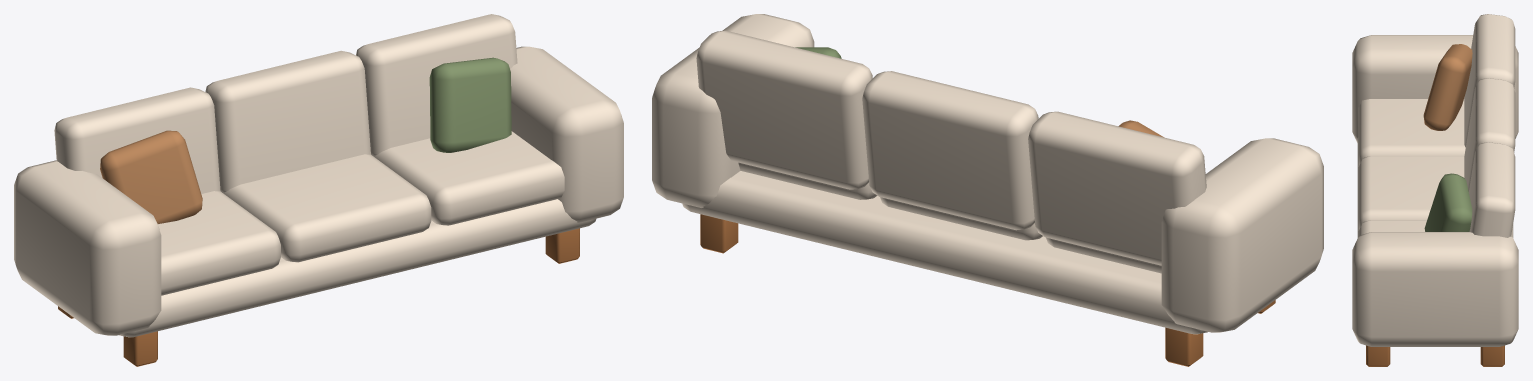
The model's file is sofa-low-poly-v2.glb.
3 renders of one model, left to right at view 1: azimuth 30°, elevation 25°; view 2: azimuth 150°, elevation 25°; view 3: azimuth 270°, elevation 25°, orthographic. The views are drawn at different scales.
Parts seen in each view (by area): view 1: sofa_arm_left, sofa_back_1, sofa_base, sofa_seat_1, sofa_arm_right, sofa_back_2, sofa_seat_2, sofa_back_0, sofa_seat_0, sofa_pillow_right, sofa_pillow_left, sofa_leg_0 (+1 smaller); view 2: sofa_base, sofa_arm_left, sofa_back_1, sofa_back_2, sofa_back_0, sofa_arm_right, sofa_seat_1, sofa_leg_2, sofa_seat_2, sofa_leg_3, sofa_seat_0; view 3: sofa_arm_right, sofa_arm_left, sofa_seat_1, sofa_seat_0, sofa_back_2, sofa_back_0, sofa_back_1, sofa_pillow_left, sofa_pillow_right, sofa_seat_2, sofa_leg_1, sofa_leg_3 (+1 smaller).
Boxes of the visible parts, <box> form: sofa_arm_left: <box>14,160,161,335</box>; sofa_back_1: <box>205,50,370,192</box>; sofa_base: <box>119,199,596,337</box>; sofa_seat_1: <box>222,154,431,262</box>; sofa_arm_right: <box>510,46,623,222</box>; sofa_back_2: <box>356,14,517,155</box>; sofa_seat_2: <box>372,131,564,225</box>; sofa_back_0: <box>54,87,220,193</box>; sofa_seat_0: <box>158,191,280,295</box>; sofa_pillow_right: <box>429,57,511,152</box>; sofa_pillow_left: <box>100,130,202,223</box>; sofa_leg_0: <box>123,331,157,366</box>; sofa_base: <box>682,171,1207,334</box>; sofa_arm_left: <box>1161,138,1323,332</box>; sofa_back_1: <box>862,71,1038,230</box>; sofa_back_2: <box>696,30,872,189</box>; sofa_back_0: <box>1028,111,1206,265</box>; sofa_arm_right: <box>652,14,814,207</box>; sofa_seat_1: <box>880,197,1042,240</box>; sofa_leg_2: <box>1165,327,1203,366</box>; sofa_seat_2: <box>738,162,877,199</box>; sofa_leg_3: <box>700,214,738,253</box>; sofa_seat_0: <box>1046,237,1161,273</box>; sofa_arm_right: <box>1352,232,1518,346</box>; sofa_arm_left: <box>1352,35,1518,142</box>; sofa_seat_1: <box>1358,156,1464,230</box>; sofa_seat_0: <box>1358,99,1465,166</box>; sofa_back_2: <box>1469,142,1515,237</box>; sofa_back_0: <box>1464,14,1515,146</box>; sofa_back_1: <box>1464,78,1515,191</box>; sofa_pillow_left: <box>1423,44,1472,130</box>; sofa_pillow_right: <box>1424,173,1472,231</box>; sofa_seat_2: <box>1358,220,1426,236</box>; sofa_leg_1: <box>1366,345,1390,366</box>; sofa_leg_3: <box>1480,345,1504,366</box>.
Size of the model in its own units: 2.9 by 1 by 0.9.
